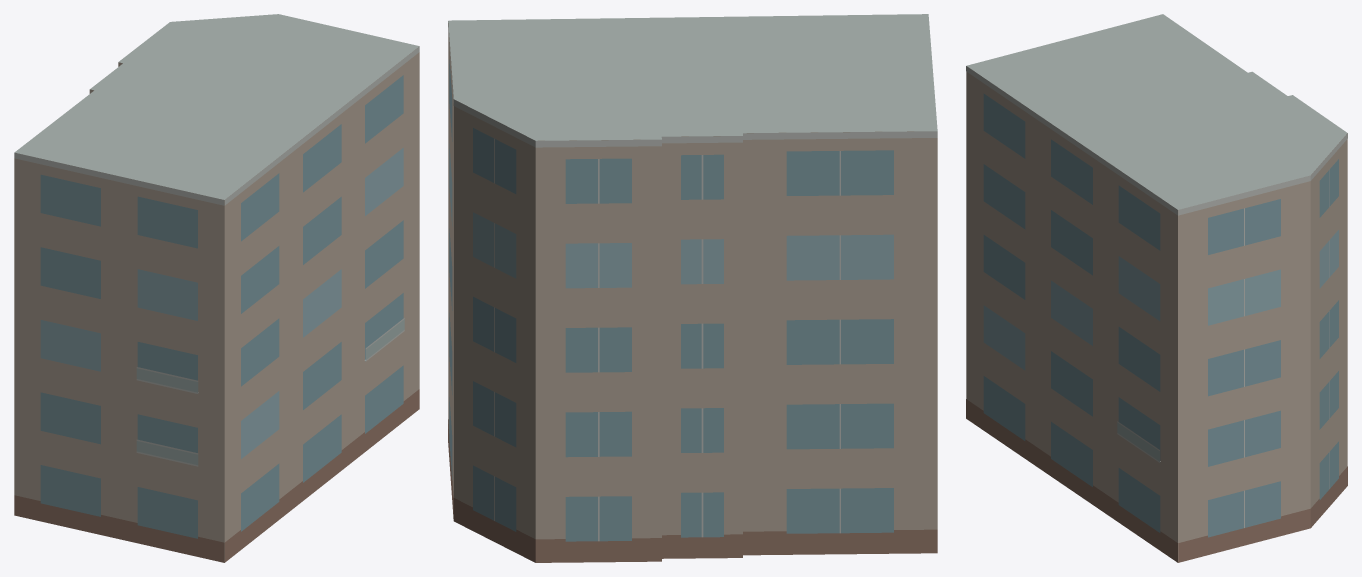
File: survey-upis-32980965.glb
The picture shows the model from 3 angles, left to right: view 1: azimuth 30°, elevation 25°; view 2: azimuth 150°, elevation 25°; view 3: azimuth 270°, elevation 25°; orthographic projection. The views are drawn at different scales.
Parts seen in each view (by area): view 1: survey-upis-32980965.tmp; view 2: survey-upis-32980965.tmp; view 3: survey-upis-32980965.tmp.
Boxes of the visible parts, x1,y1,x2,y2 form: survey-upis-32980965.tmp: (14,14,419,562); survey-upis-32980965.tmp: (448,14,937,562); survey-upis-32980965.tmp: (966,14,1347,562).
Bounding box in the file's own units: 18.17 × 15.25 × 14.95.
